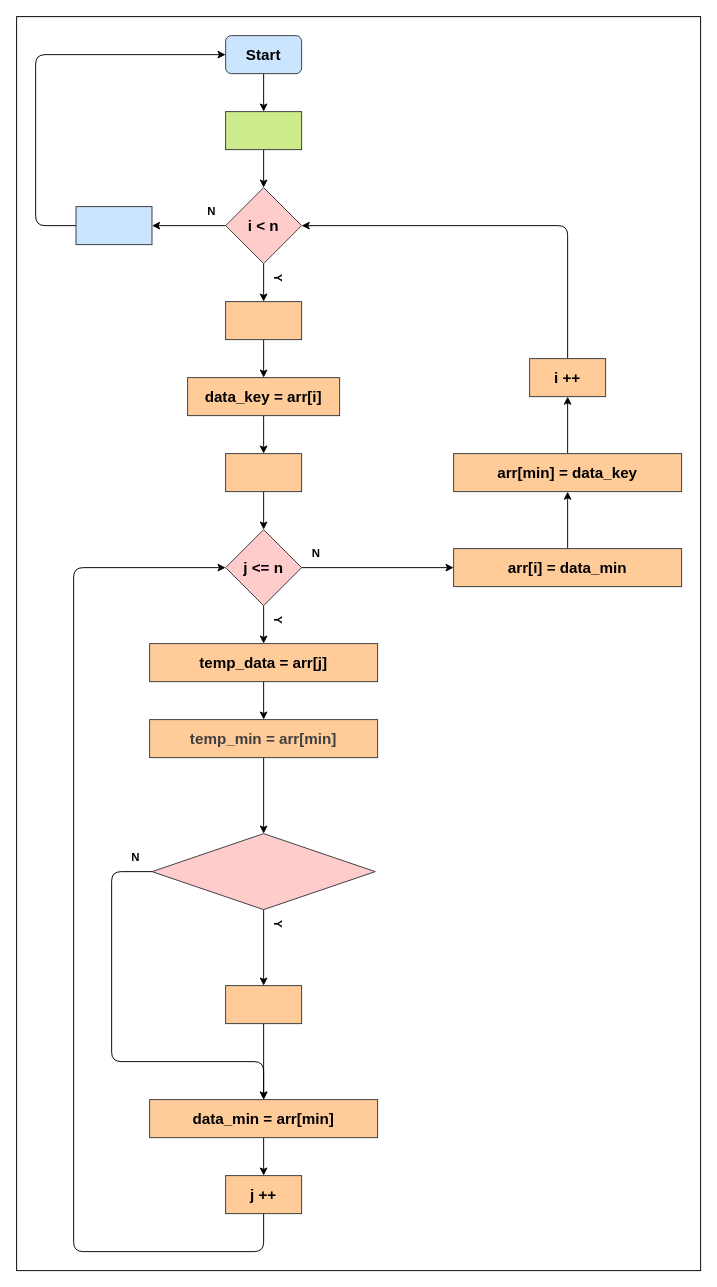
Some shapes in this 717 by 1287 pixel diagram are drawn without their labels. Each missing label, with the centre of its shape:
"Done" goes at (x=113, y=225).
"int i = 0" goes at (x=263, y=130).
"j = i + 1" goes at (x=263, y=472).
"min = i" goes at (x=263, y=320).
"min = j" goes at (x=263, y=1004).
"temp_data < temp_min" goes at (x=263, y=871).
